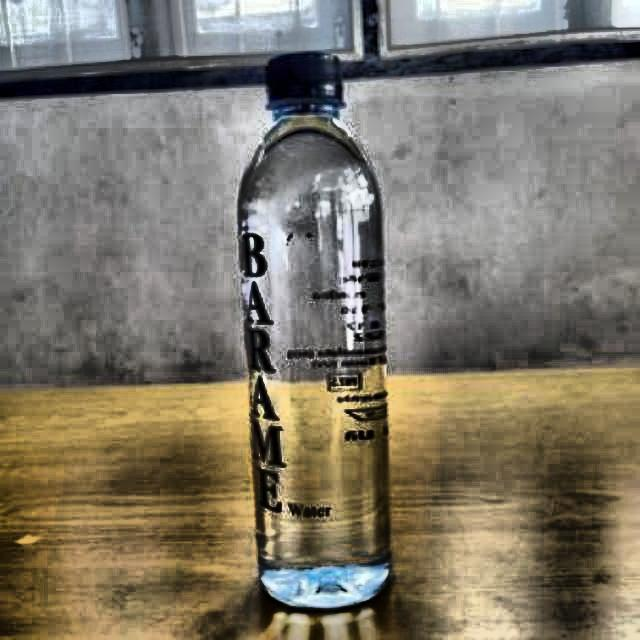Bottles: (228, 46, 406, 619)
